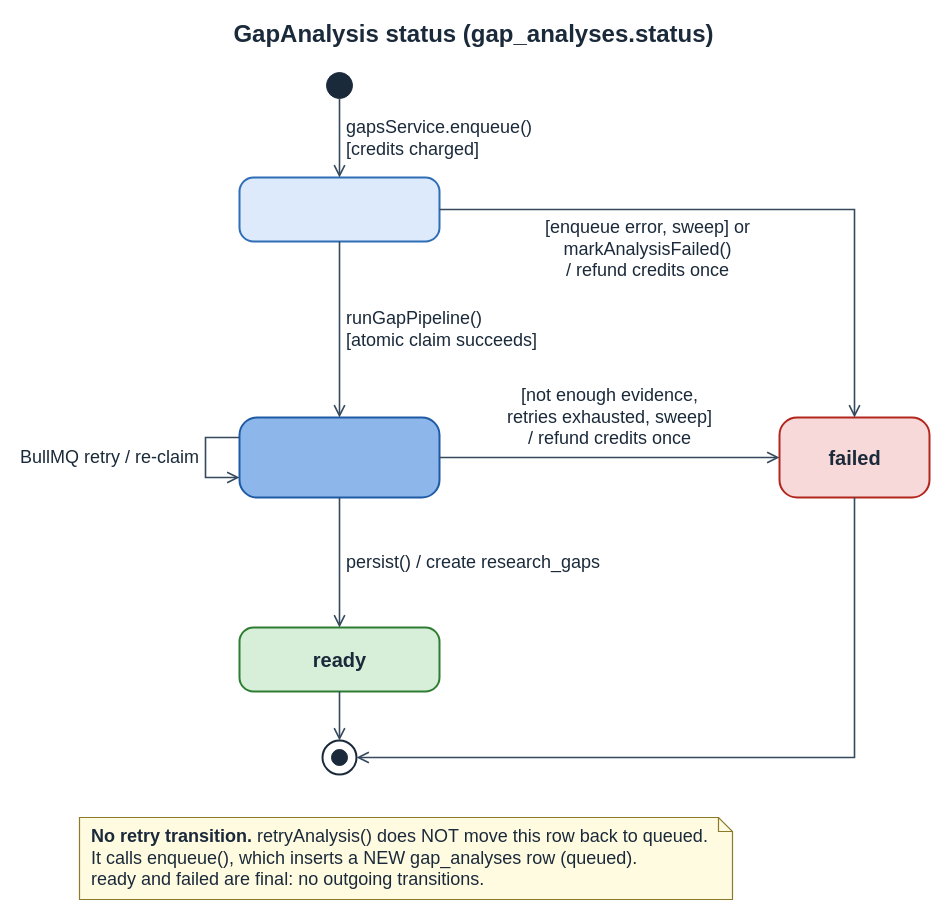
Some shapes in this 947 by 917 pixel diagram are drawn without their labels. The centre of each missing label's shape, as x and y in pixels:
analyzing: point 339,457
queued: point 339,209
